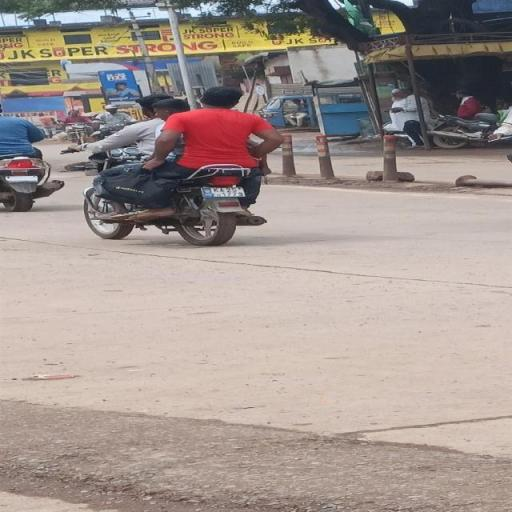tripple riding: (81, 84, 284, 170)
